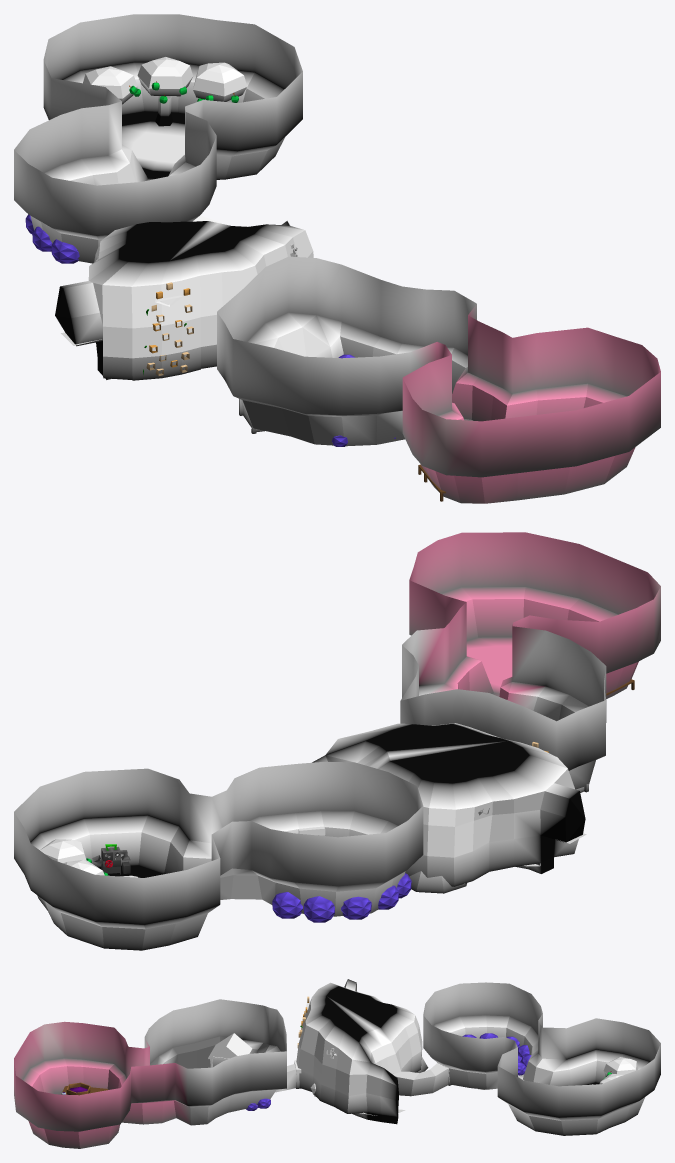
File: fruitigen Island.fbx
The picture shows the model from 3 angles, top to bottom: view 1: azimuth 30°, elevation 25°; view 2: azimuth 150°, elevation 25°; view 3: azimuth 270°, elevation 25°; orthographic projection. The views are drawn at different scales.
Visible parts, largest first — view 1: island, island.001, apple tree.001, apple tree.002, bush, apple tree; view 2: island, bush, apple tree.002, orange.002; view 3: island, house, bush, apple tree, island.001, grape barrel.001.
Part boxes in pixels (bbox=[...]): island: bbox=[14, 14, 660, 503]; island.001: bbox=[131, 255, 200, 380]; apple tree.001: bbox=[137, 57, 193, 126]; apple tree.002: bbox=[193, 62, 247, 101]; bush: bbox=[25, 214, 395, 446]; apple tree: bbox=[83, 66, 137, 104]; island: bbox=[14, 532, 660, 950]; bush: bbox=[272, 873, 411, 922]; apple tree.002: bbox=[40, 839, 86, 863]; orange.002: bbox=[409, 871, 466, 893]; island: bbox=[14, 979, 660, 1148]; house: bbox=[208, 1033, 252, 1067]; bush: bbox=[246, 1033, 531, 1110]; apple tree: bbox=[603, 1057, 638, 1076]; island.001: bbox=[302, 989, 330, 1030]; grape barrel.001: bbox=[61, 1082, 108, 1095].
Size of the model in its own units: 7472 by 2253 by 16074.
